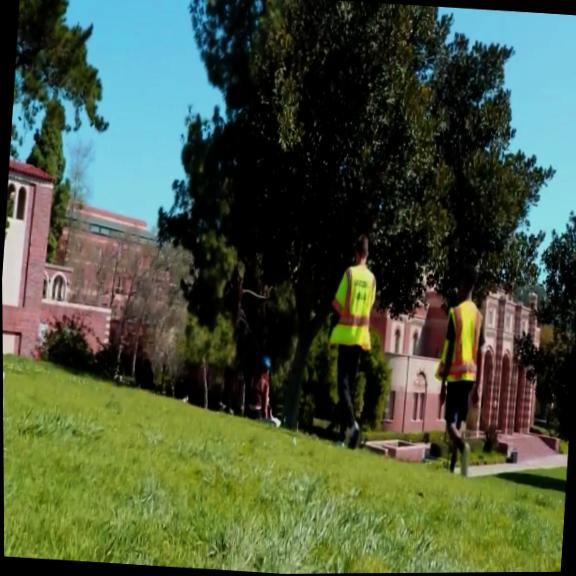safety_vest: (327, 262, 381, 348), (435, 299, 488, 385)
